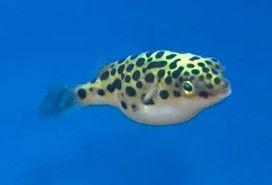Green Spotted Puffer: (39, 47, 231, 128)
